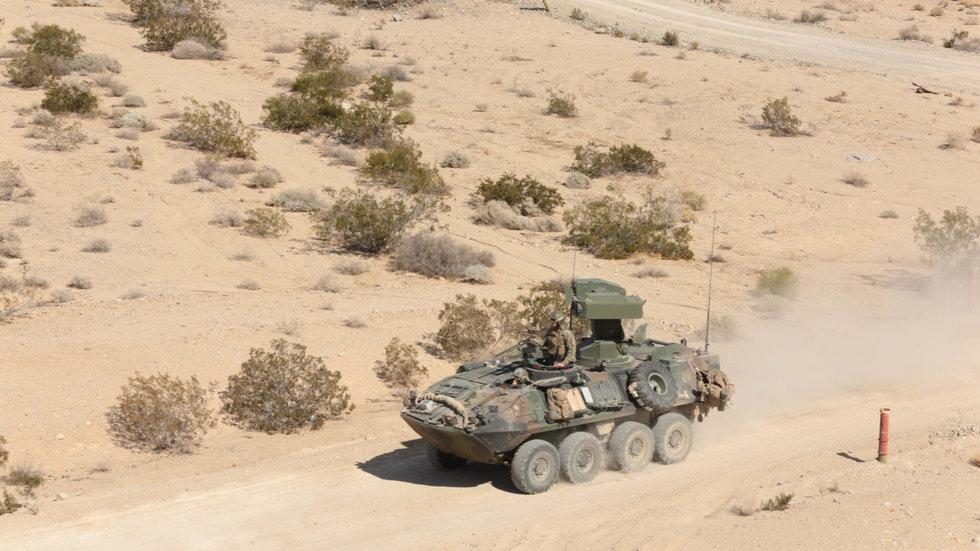armored_car: (398, 280, 736, 492)
